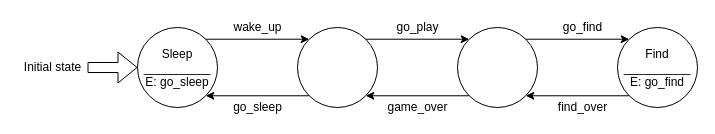
This 715x134 diagram has some shape labels left out. Each missing label, with the box of its shape:
Normal __________ E: wake_up, game_over: (296, 26, 378, 108)
Play __________ E: go_play, find_over: (456, 26, 538, 108)
